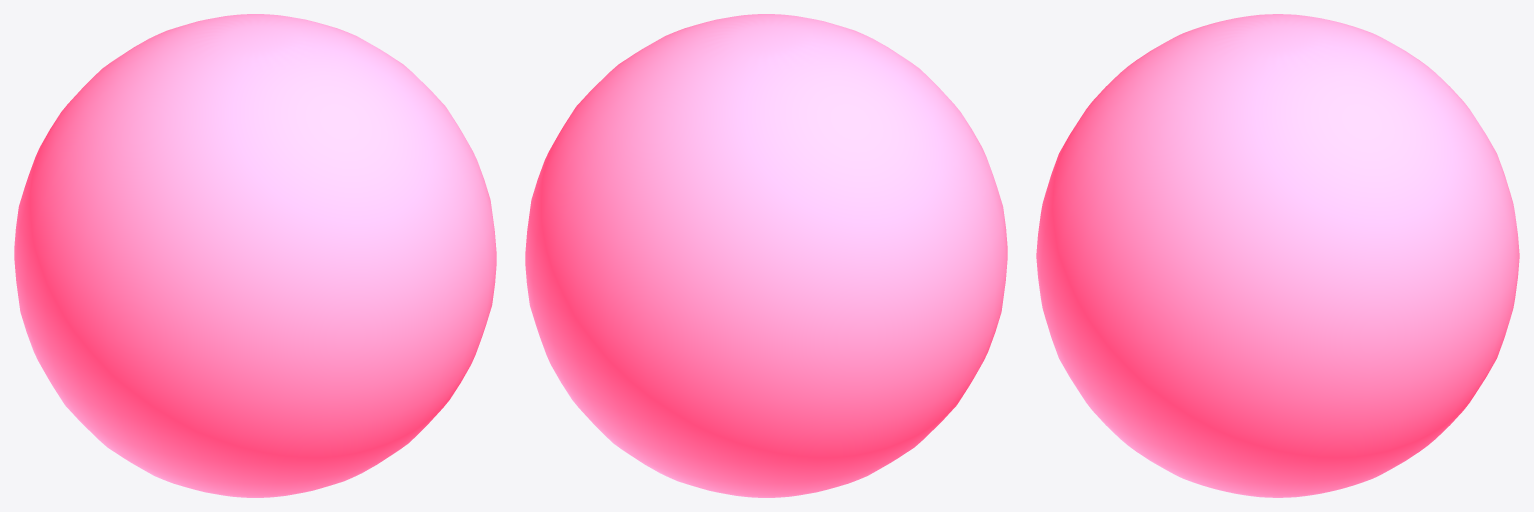
Rendered from clearDay.gltf.
3 renders of one model, left to right at view 1: azimuth 30°, elevation 25°; view 2: azimuth 150°, elevation 25°; view 3: azimuth 270°, elevation 25°, orthographic.
Parts seen in each view (by area): view 1: Sphere.008; view 2: Sphere.008; view 3: Sphere.008.
Boxes of the visible parts, left/top/right/bottom form: Sphere.008: left=14, top=14, right=496, bottom=497; Sphere.008: left=525, top=14, right=1007, bottom=497; Sphere.008: left=1036, top=14, right=1519, bottom=497.
Size of the model in its own units: 4.35 by 4.35 by 4.35.
